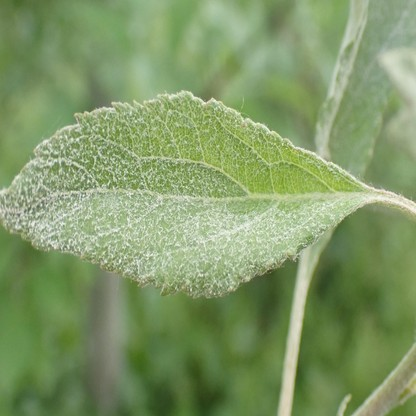powder: (1, 91, 372, 300)
